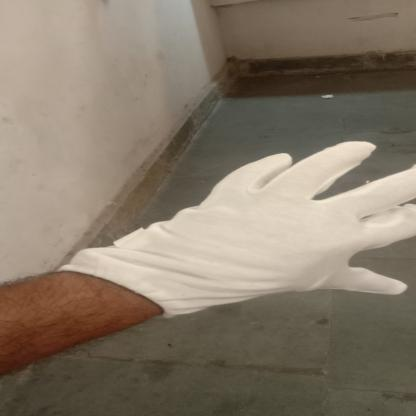gloved_hand: (44, 135, 414, 322)
